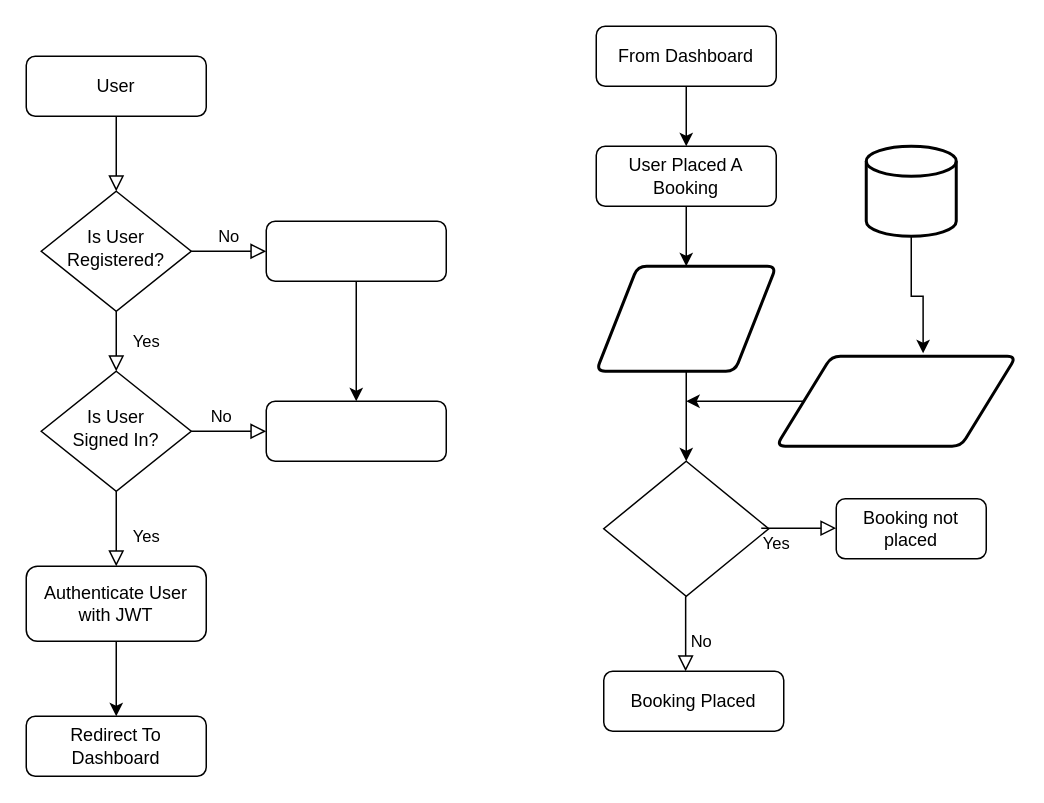
The diagram is 1044 pixels wide and 803 high, and some of its shapes have lost their labels. The centre of each missing label's shape, as x and y in pixels:
"Date Overlap?" goes at point 685,528.
"Existing Start Date Exising End Date" goes at point 895,400.
"Sign In" goes at point 355,430.
"Sign Up" goes at point 355,250.
"Start Date, End Date, & Room Type Data" goes at point 685,318.
